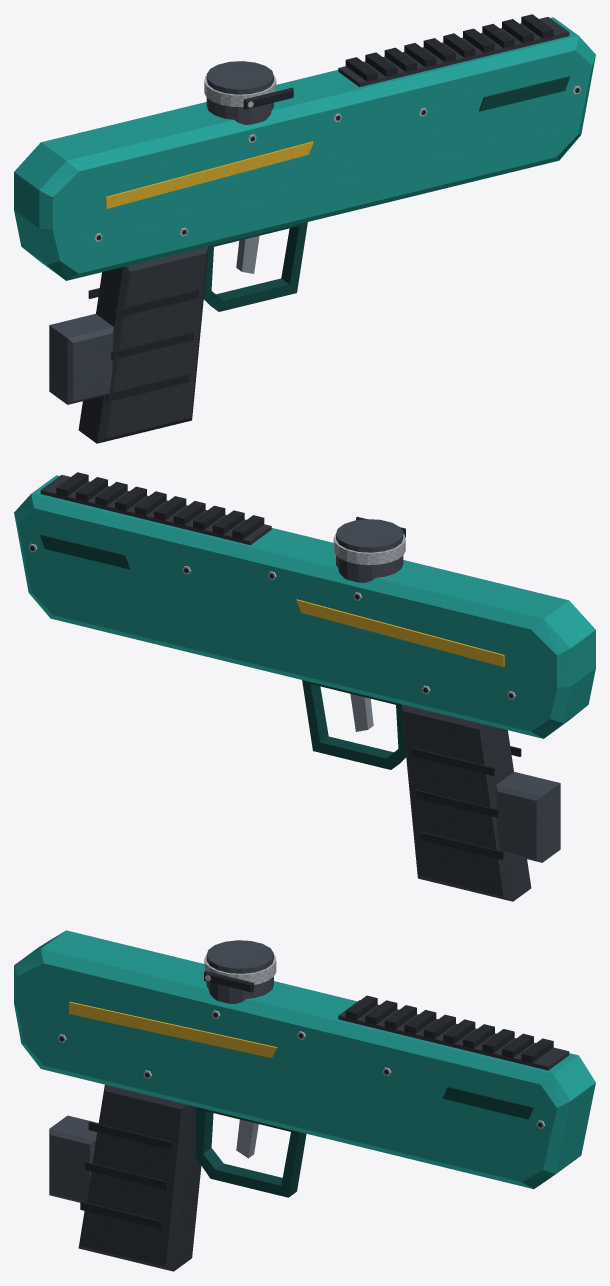
File: vanta_v2.glb
3 views of the same model, one above another, from view 1: azimuth 30°, elevation 25°; view 2: azimuth 150°, elevation 25°; view 3: azimuth 330°, elevation 25° (orthographic).
Parts seen in each view (by area): view 1: body; view 2: body; view 3: body.
Part boxes in pixels (x1,y1,x2,y2): body: (14, 14, 595, 443); body: (14, 472, 595, 901); body: (14, 930, 595, 1271).
Size of the model in its own units: 0.456 by 0.254 by 0.0572.
10 materials, 10 textured.
